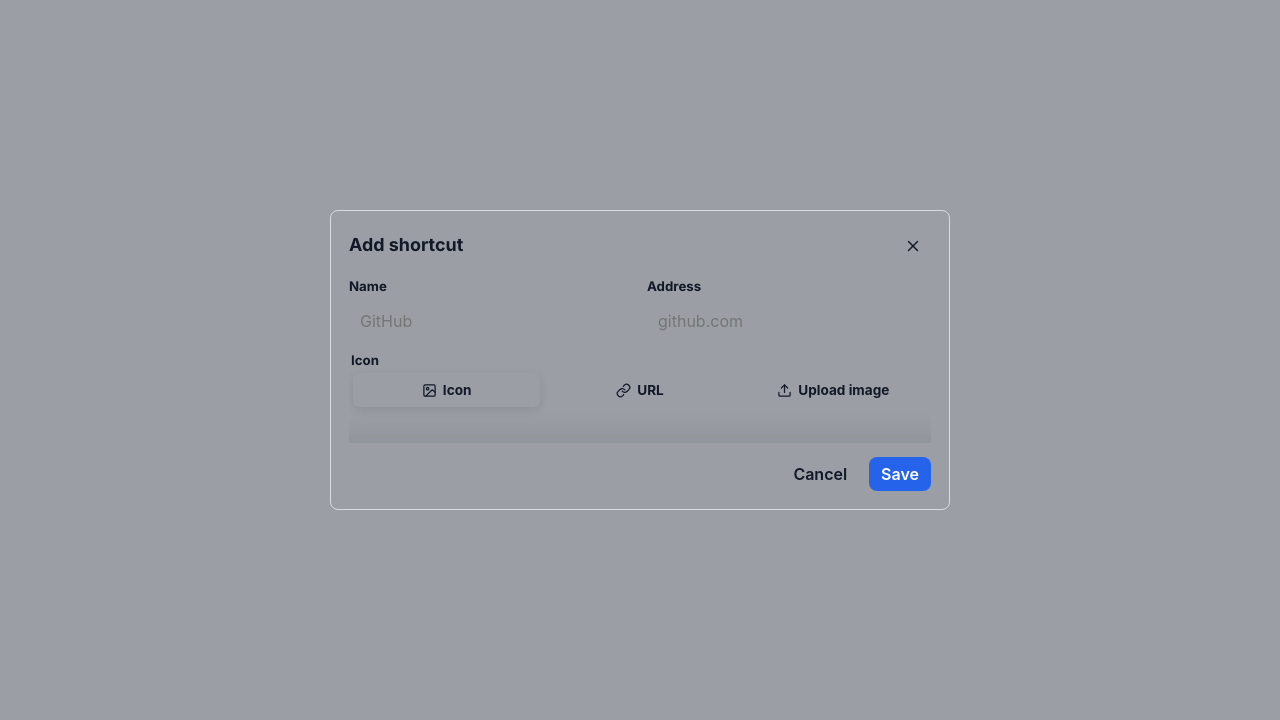
ShortcutModal › shows validation when the URL scheme is unsupported
Type "ftp://example.com" into the field labelled "Address" at (789, 321), box [647, 303, 931, 339]
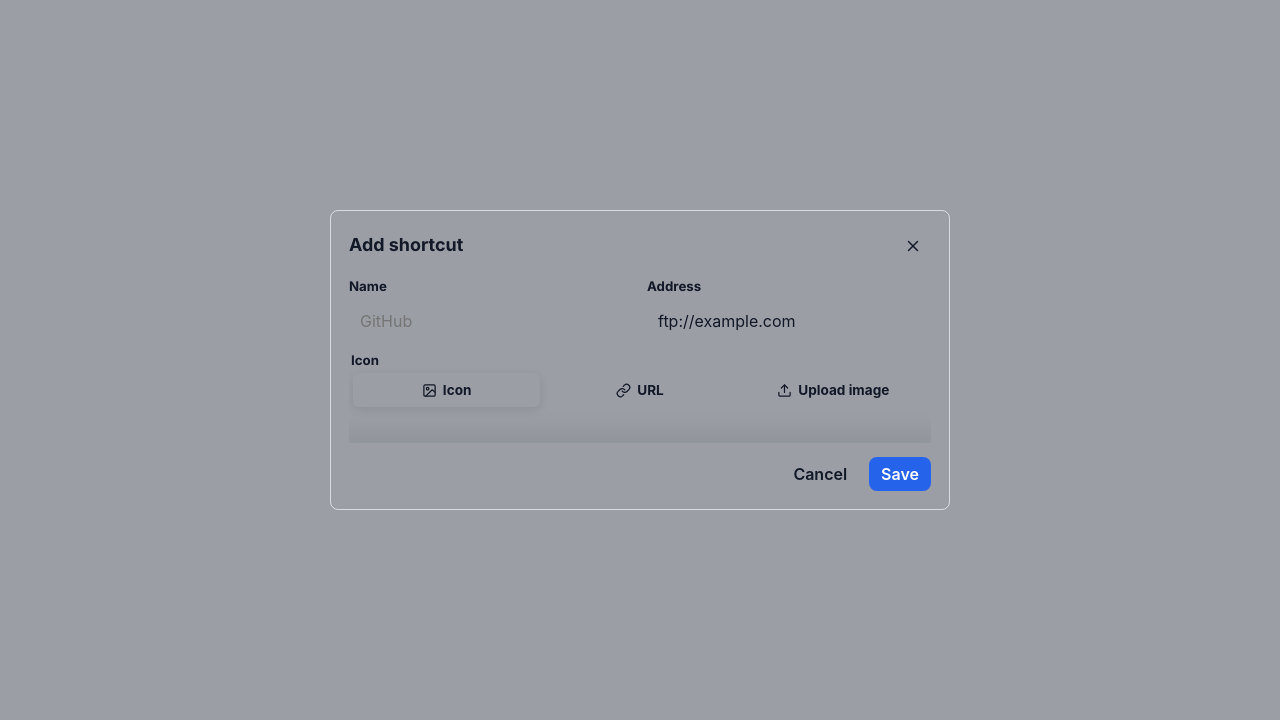
Click the button "Save" at (900, 474), box [869, 457, 931, 491]
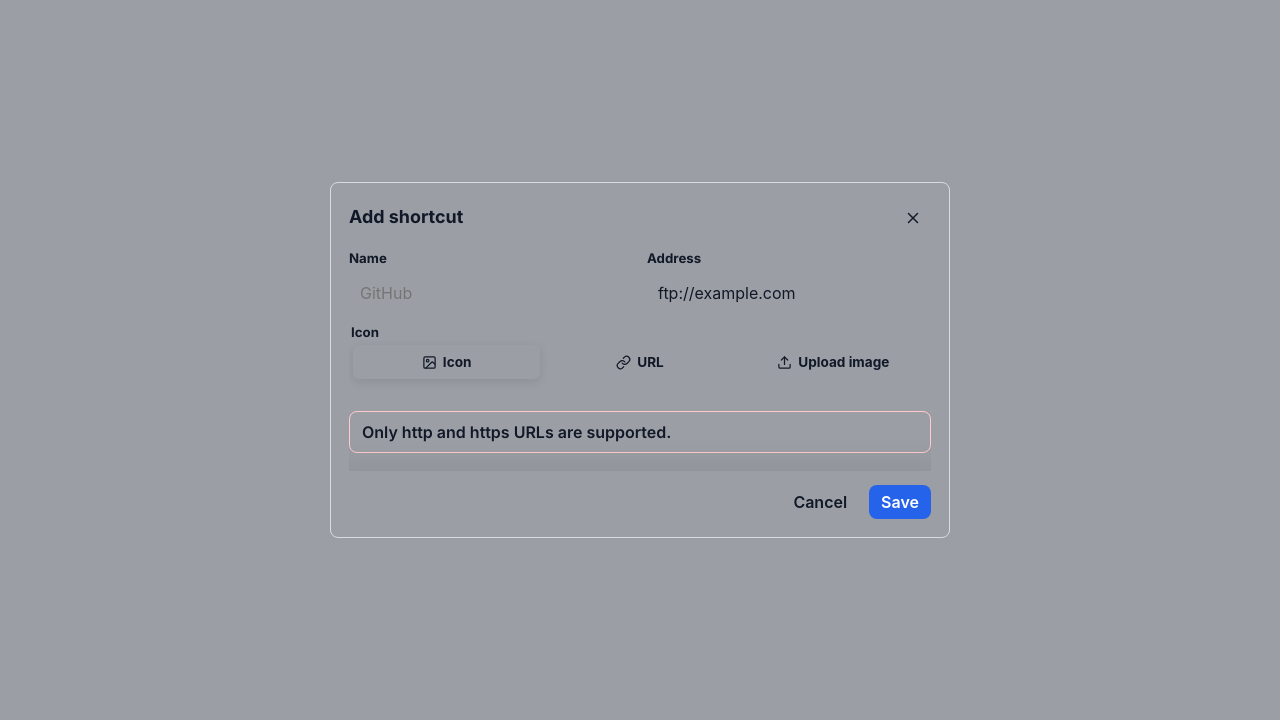
Expected: the text "Only http and https URLs are supported." is shown, [349, 411, 931, 453]
